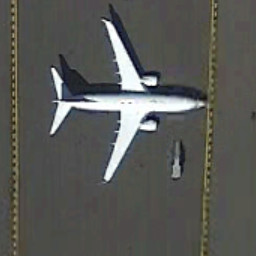Airplane: (40, 11, 212, 188)
